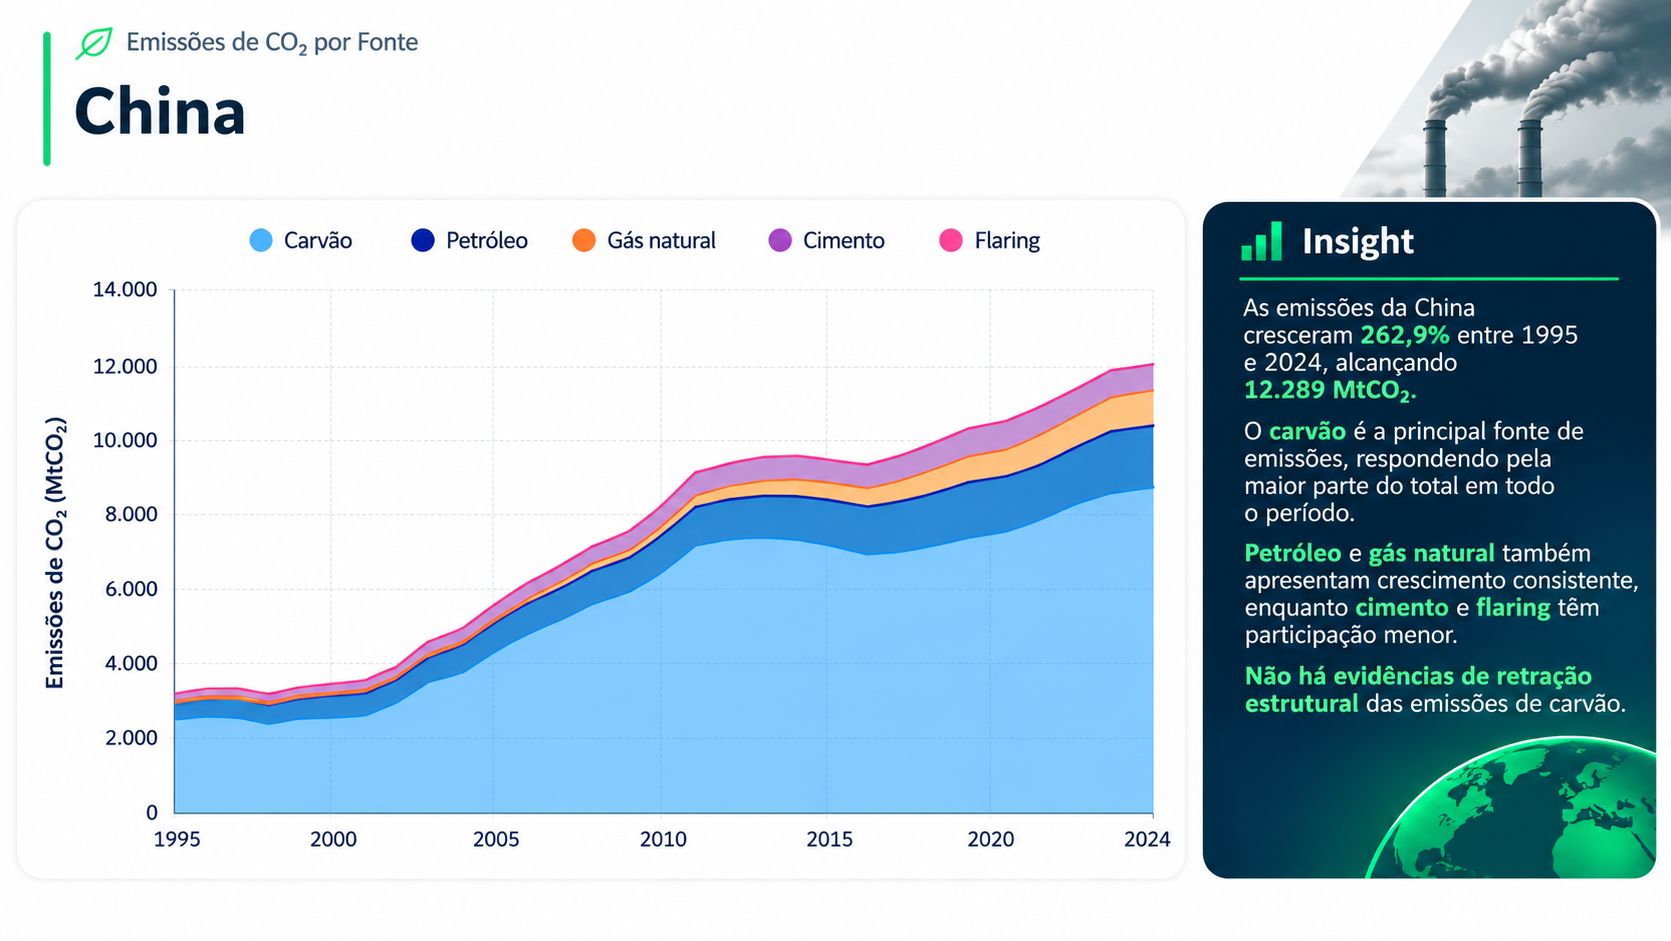

This screenshot's page, from the dashboard's own definition file:
{"tool":"powerbi","page":{"name":"Pergunta 3 - China","canvas":[1280,720],"ordinal":4},"visuals":[{"type":"stackedAreaChart","title":"Emissões de CO₂ por Fonte — China (1995–2024).","fields":{"Category":["co2-data.year"],"Y":["Sum(co2-data.coal_co2)","Sum(co2-data.oil_co2)","Sum(co2-data.gas_co2)","Sum(co2-data.cement_co2)","Sum(co2-data.flaring_co2)"]},"box":[0,0,1280.3,720.4],"z":0}]}

Visuals, with their boxes in screenshot pixels (x1, y1, x2, y2), scaled from the page's 1280x720 canvas onto the 1671x941 screenshot:
"Emissões de CO₂ por Fonte — China (1995–2024)." stackedAreaChart: 0 0 1670 940
